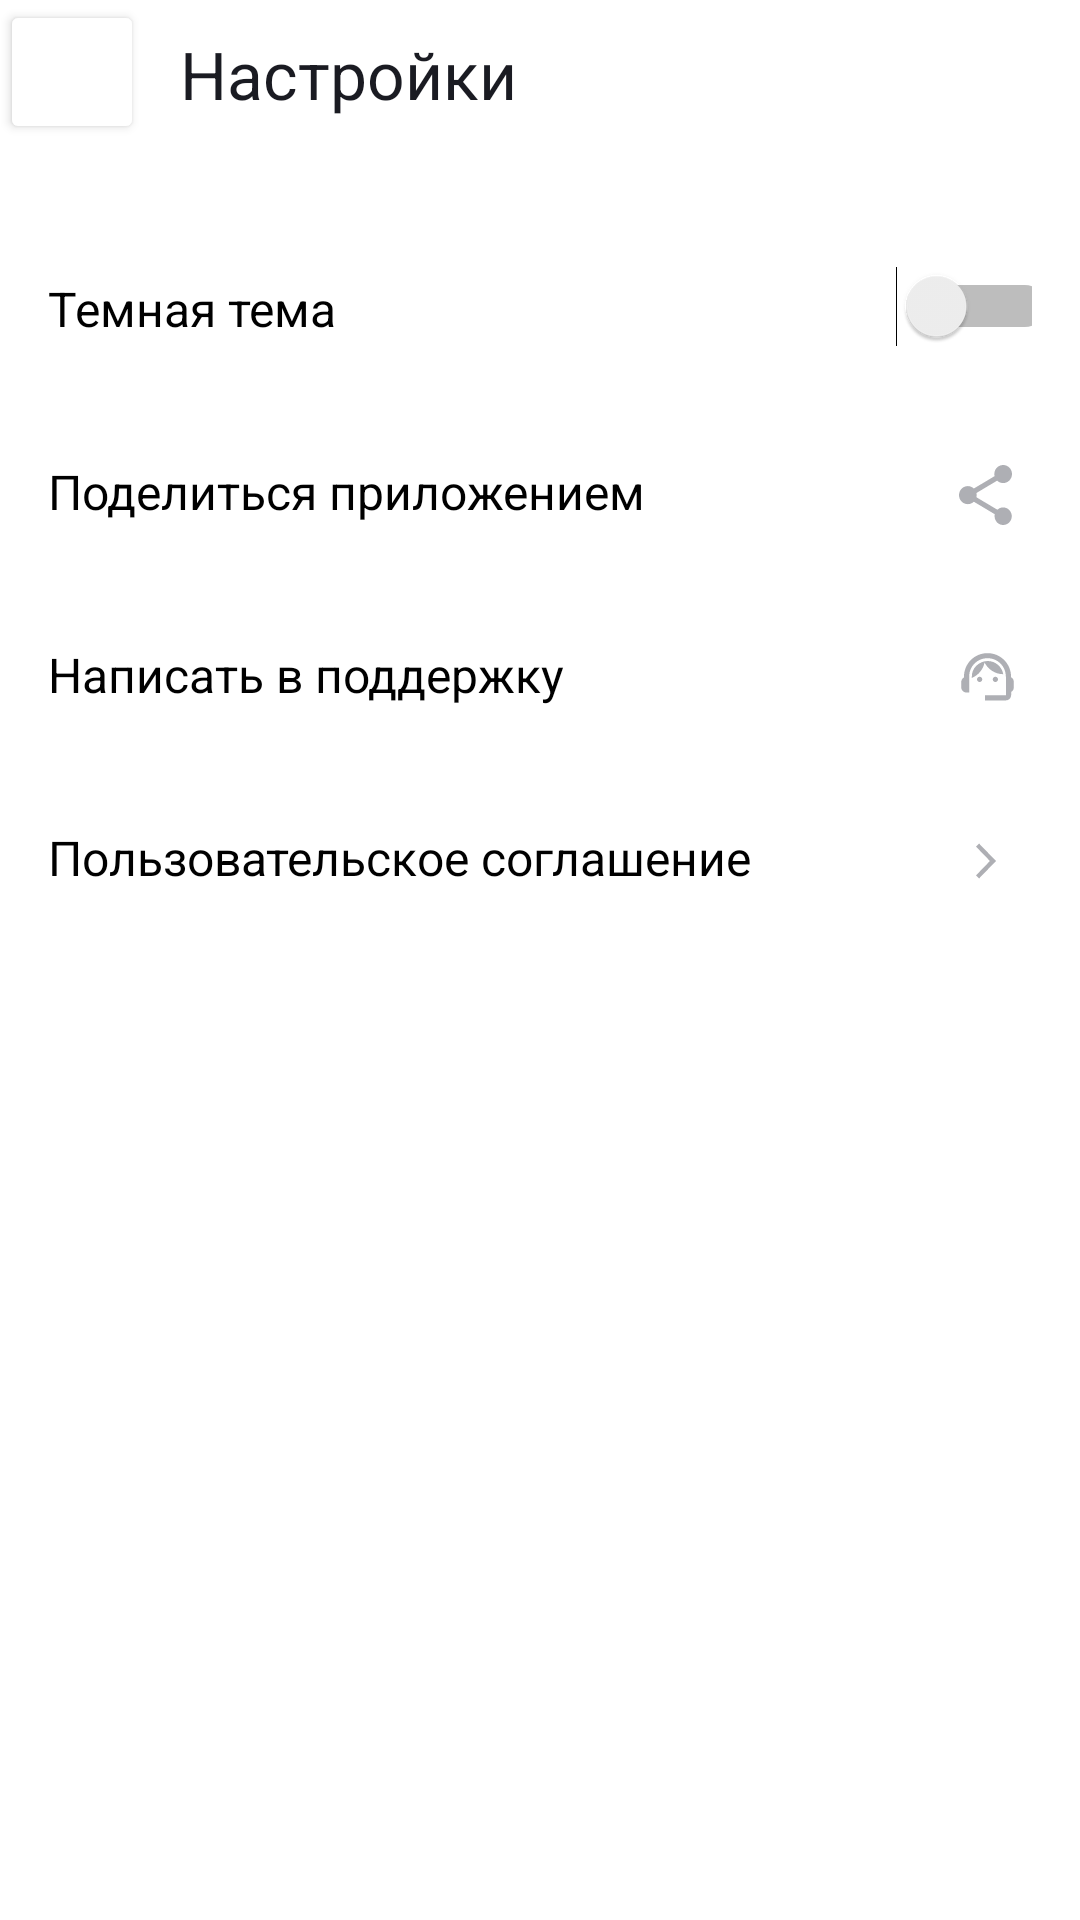

Icons on this 1080px x 1920px Android screen, each with its box as (x1, y1, x2, y2):
arr: (976, 844, 996, 878)
share: (959, 465, 1012, 525)
support: (961, 653, 1014, 701)
